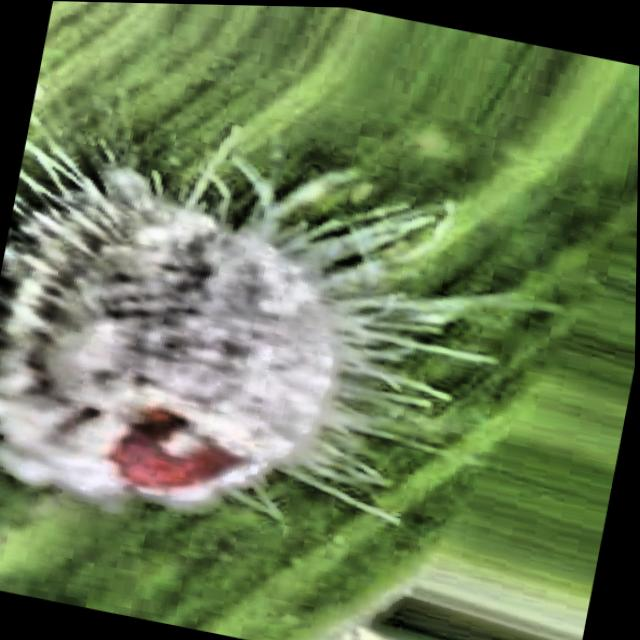Mealy-bug: (0, 74, 535, 630)
